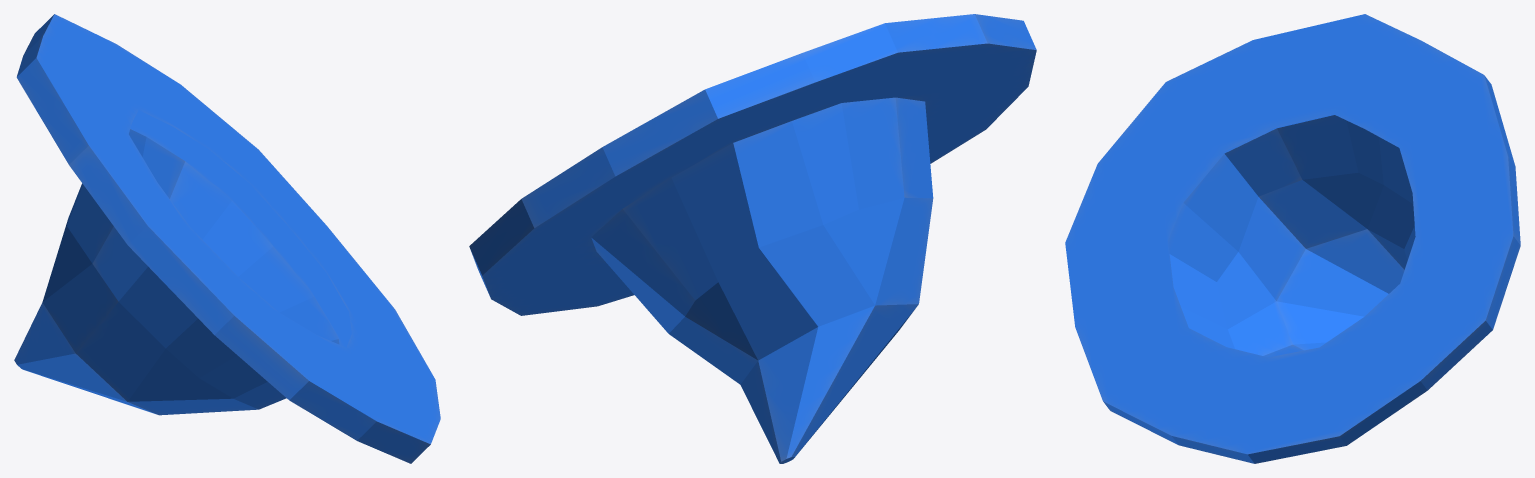
File: Hat.fbx
3 views of the same model, side by side, from view 1: azimuth 30°, elevation 25°; view 2: azimuth 150°, elevation 25°; view 3: azimuth 270°, elevation 25° (orthographic). The views are drawn at different scales.
Visible parts, largest first — view 1: Hut; view 2: Hut; view 3: Hut.
Part boxes in pixels (<box>): Hut: <box>14,14,440,463</box>; Hut: <box>469,14,1036,463</box>; Hut: <box>1065,14,1520,463</box>.
Size of the model in its own units: 237 by 226 by 293.
1 material, 1 textured.
